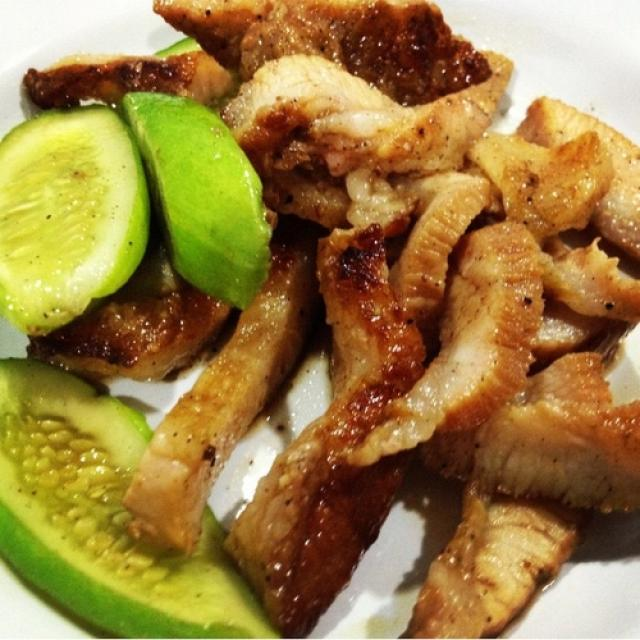猪肉菜式: (36, 23, 621, 604)
